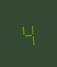four: (19, 20, 36, 46)
